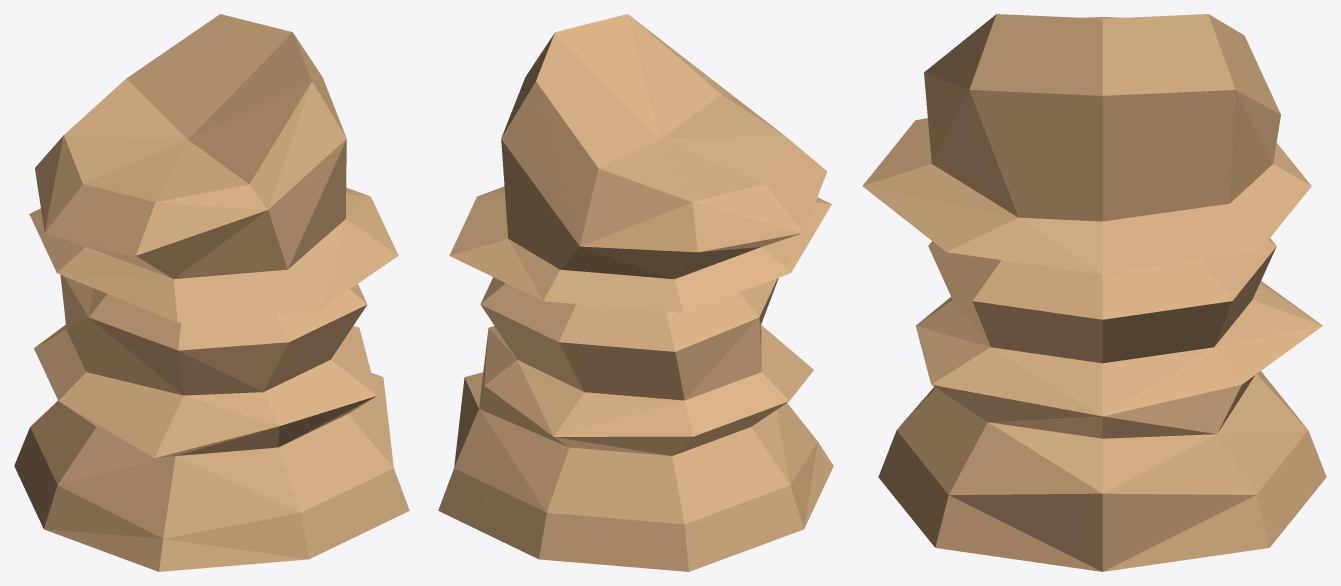
Rendered from Rock_7.fbx.
3 renders of one model, left to right at view 1: azimuth 30°, elevation 25°; view 2: azimuth 150°, elevation 25°; view 3: azimuth 270°, elevation 25°, orthographic. The views are drawn at different scales.
Parts seen in each view (by area): view 1: Rock_7; view 2: Rock_7; view 3: Rock_7.
Part boxes in pixels (x1=…): Rock_7: x1=14, y1=14, x2=409, y2=571; Rock_7: x1=438, y1=14, x2=833, y2=571; Rock_7: x1=862, y1=14, x2=1326, y2=571.
Bounding box in the file's own units: 188 × 193 × 231.
